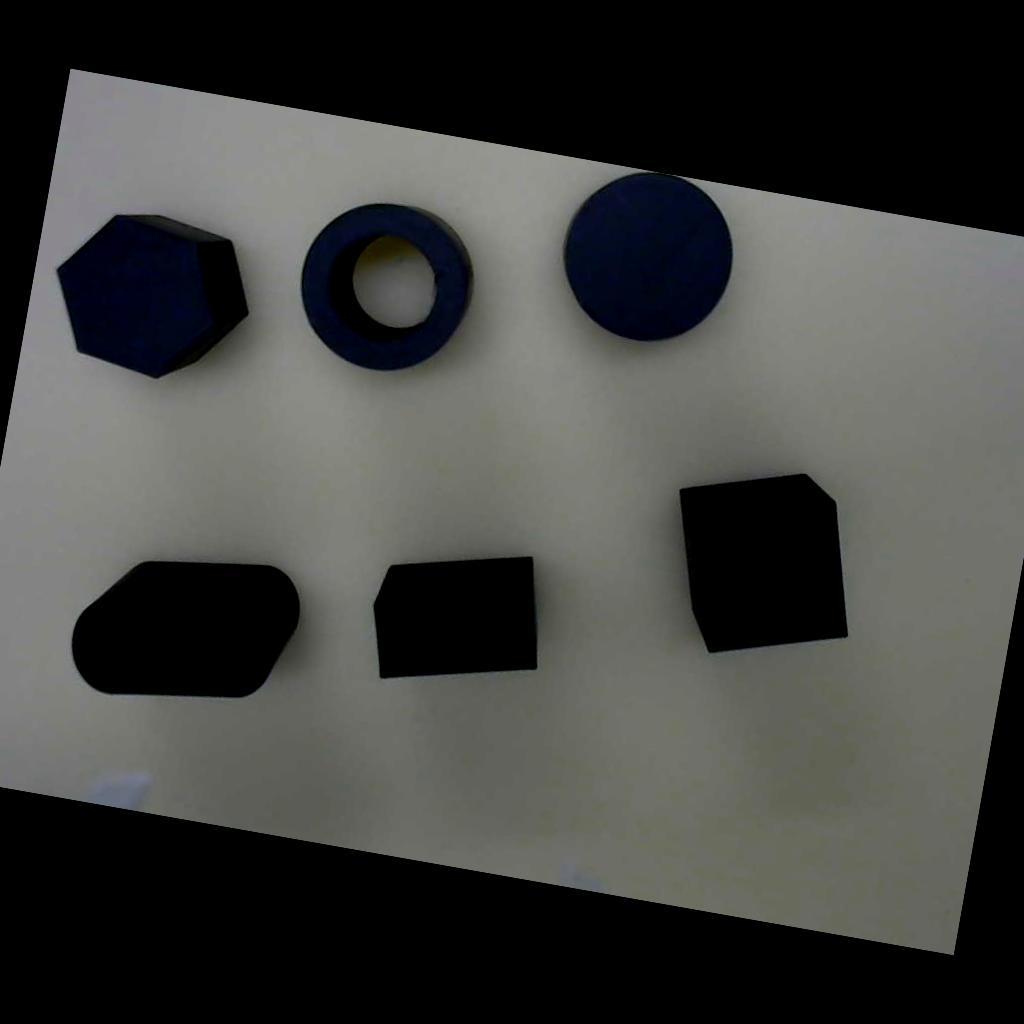circle: (536, 156, 766, 363)
hexagon: (29, 177, 271, 411)
oval: (60, 547, 313, 709)
rectangle: (355, 537, 559, 698)
ring: (266, 167, 506, 405)
square: (649, 440, 880, 688)
